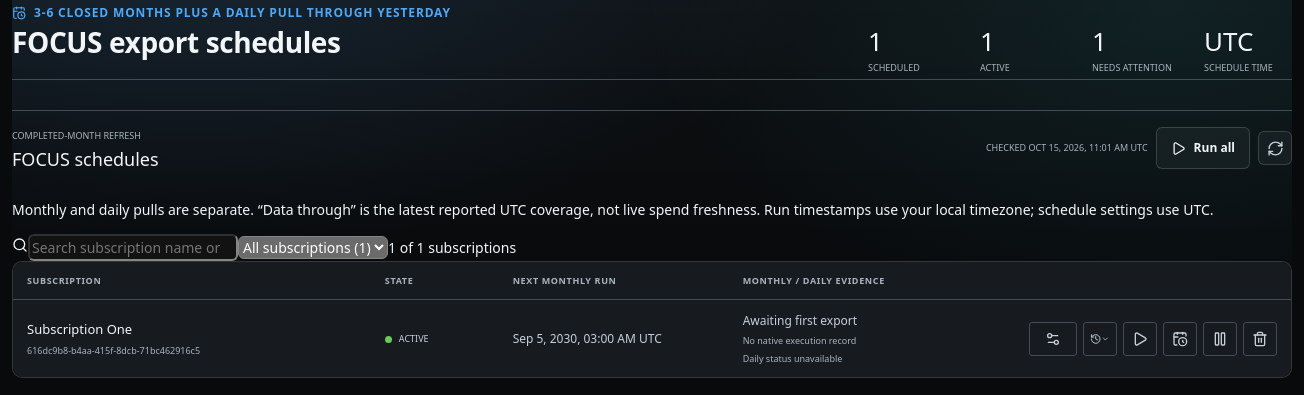
it: Open Schedules › labels each mobile card field and action without duplicating subscription controls
Expected: the number of buttons named "Export Subscription One now" is 1, [1123,322,1157,356]
Click the button named "Delete Subscription One" at coordinates (1260, 338), box [1243,322,1277,356]
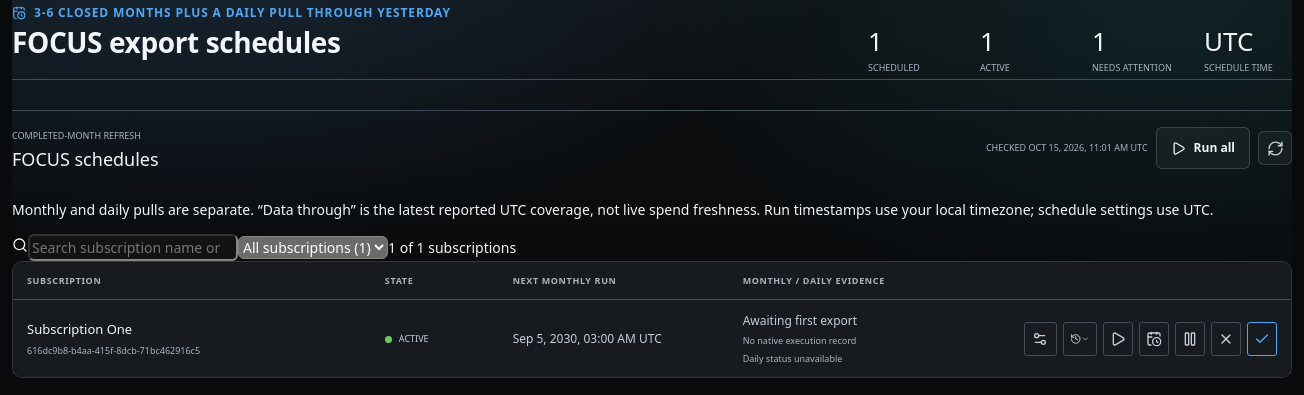
Now the button named "Confirm delete Subscription One" is shown, box [1247,322,1277,356]
Click the button named "Cancel delete" at coordinates (1226, 338), box [1211,322,1241,356]
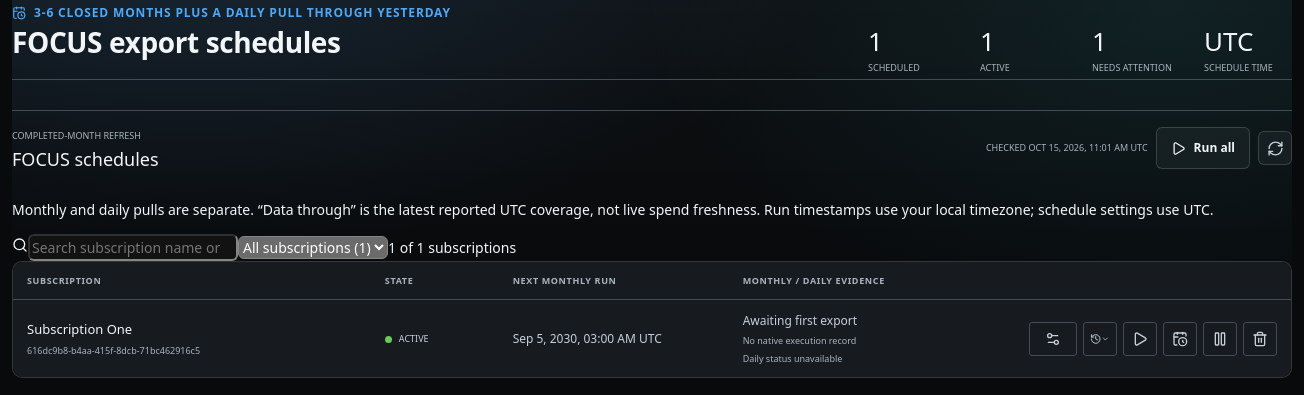
Now the button named "Delete Subscription One" is shown, box [1243,322,1277,356]
